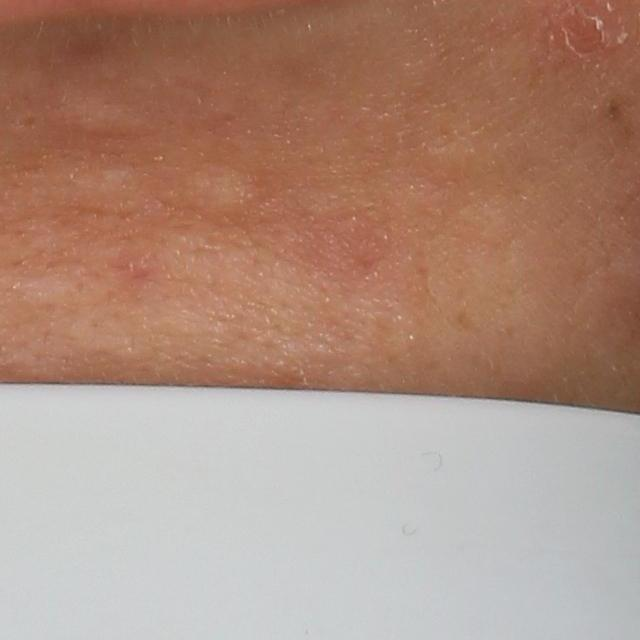hypertrophic_scar: (30, 161, 162, 210), (49, 93, 167, 142), (188, 160, 270, 216), (11, 273, 82, 311)
